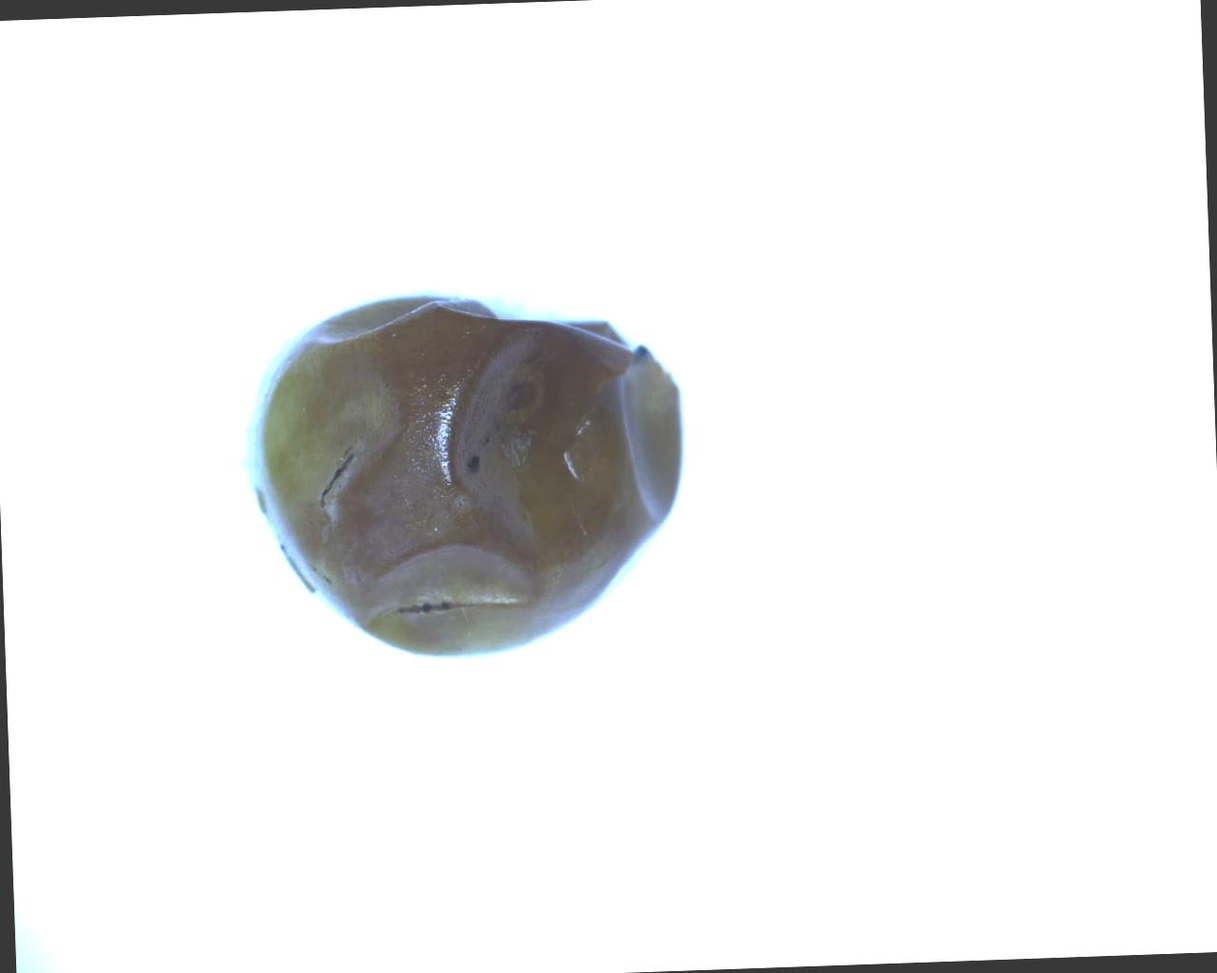Grape Rotten: (241, 282, 693, 665)
